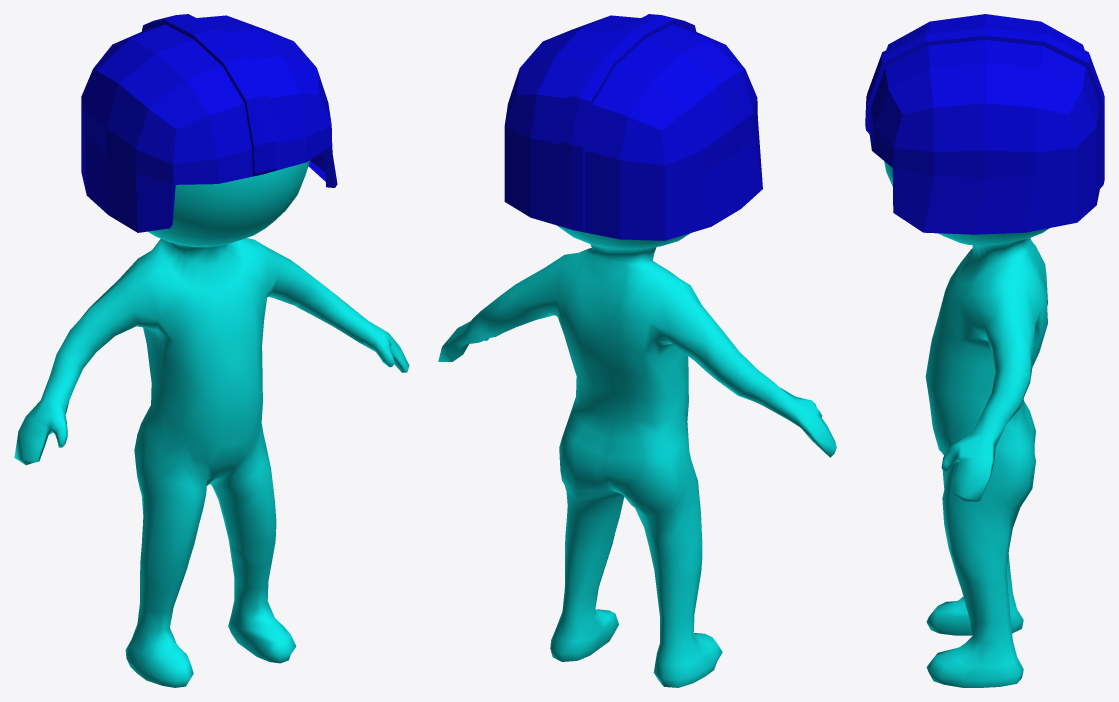
The model's file is Chibi_Soldier.fbx.
3 views of the same model, side by side, from view 1: azimuth 30°, elevation 25°; view 2: azimuth 150°, elevation 25°; view 3: azimuth 270°, elevation 25° (orthographic).
Parts seen in each view (by area): view 1: Chibi_Soldier; view 2: Chibi_Soldier; view 3: Chibi_Soldier.
Part boxes in pixels (left/top/right/bottom): Chibi_Soldier: left=14, top=14, right=409, bottom=687; Chibi_Soldier: left=438, top=14, right=836, bottom=687; Chibi_Soldier: left=865, top=14, right=1104, bottom=687.
Size of the model in its own units: 123 by 188 by 65.42.
